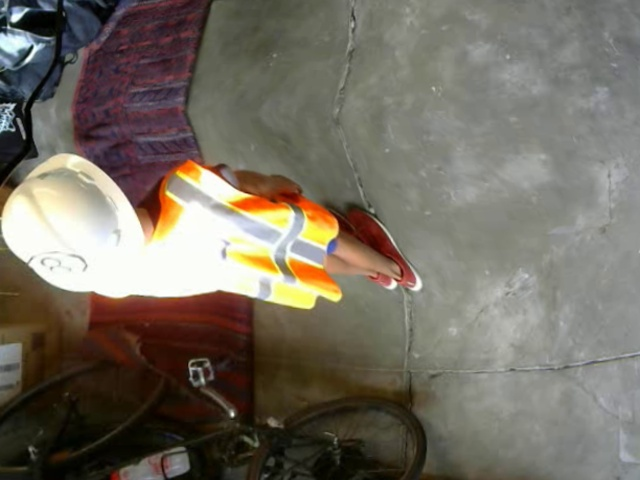eight: (25, 248, 88, 280)
